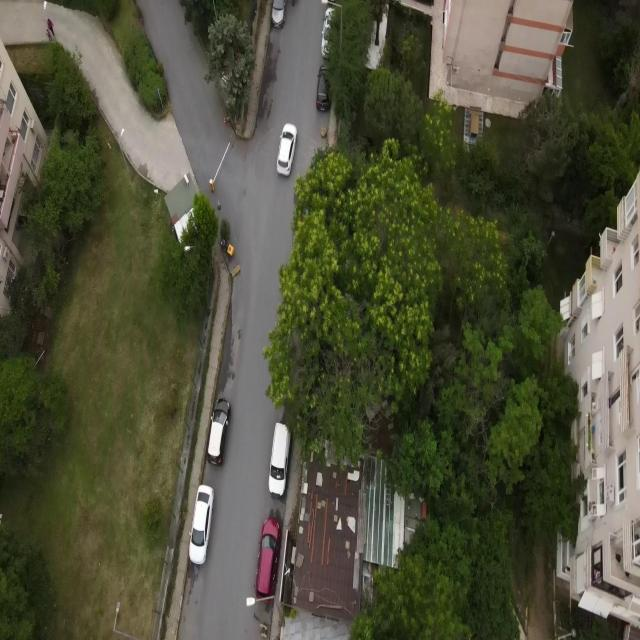p3rson: (46, 16, 56, 38), (45, 28, 53, 42)
